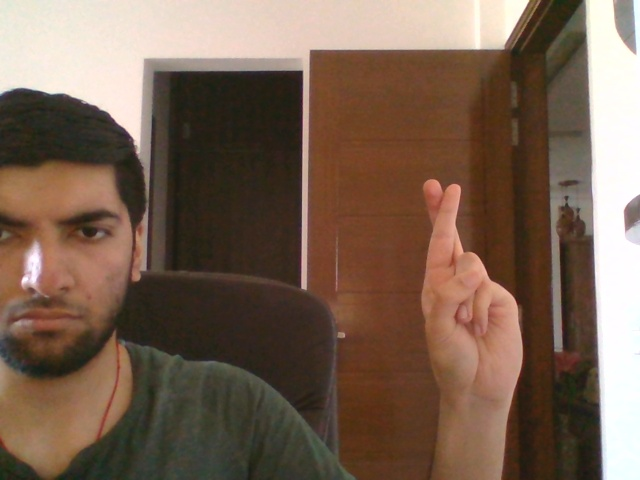LetterR: (418, 178, 525, 408)
